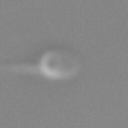normal: (1, 55, 41, 79)
